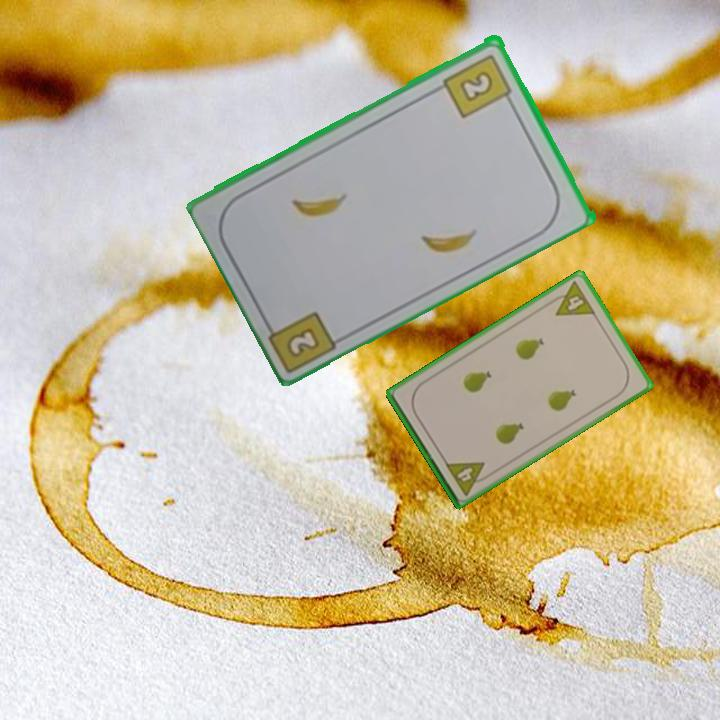2b: (440, 50, 517, 121), (286, 323, 323, 357)
4p: (545, 278, 598, 319), (442, 458, 493, 498)
